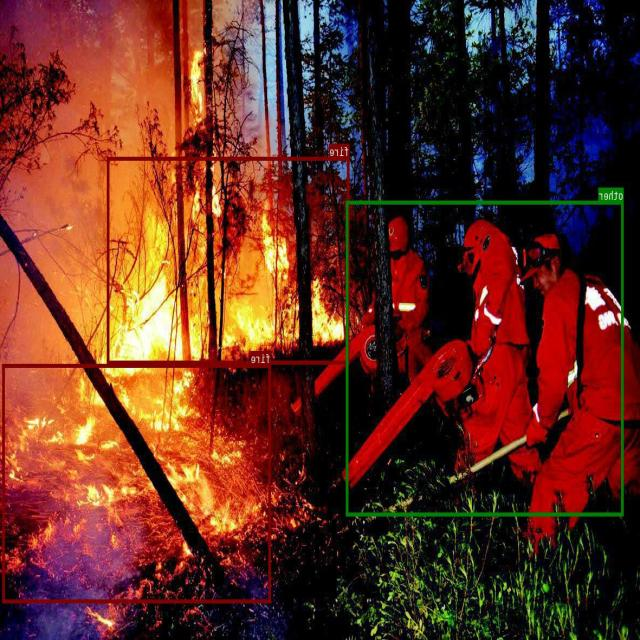fire: (3, 363, 271, 602), (107, 156, 350, 364)
other: (347, 200, 624, 516)
